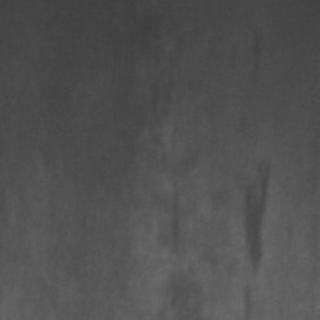inclusion: (231, 148, 283, 280), (157, 165, 195, 267), (240, 28, 268, 76)
